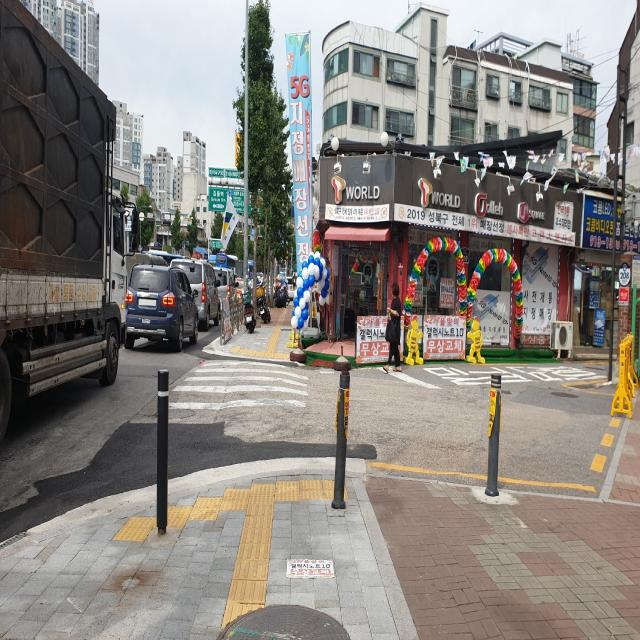횡단보도: (169, 360, 309, 411)
